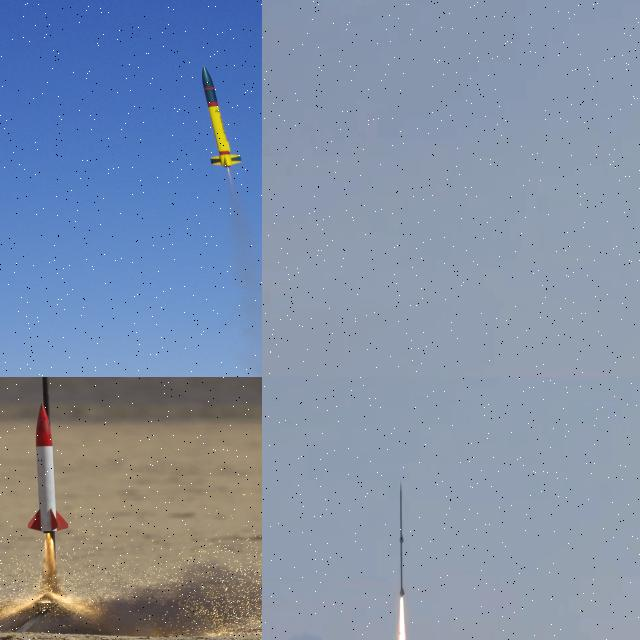Rocket: (192, 65, 248, 174), (28, 401, 70, 534), (399, 481, 404, 597)
